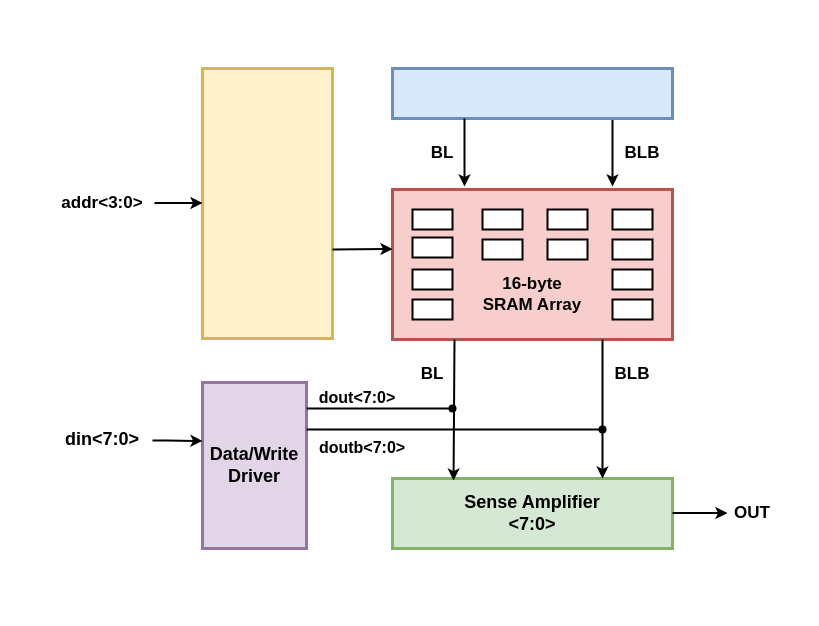
This 819x626 diagram has some shape labels left out. The shapes that lost their labels are listed below. From the top down, each one's box as (x1, y1, x2, y2) in pixels, then its label:
(390, 66, 674, 120): Precharge Array <7:0>
(200, 66, 334, 340): 4-to-16 ROW DECODER
